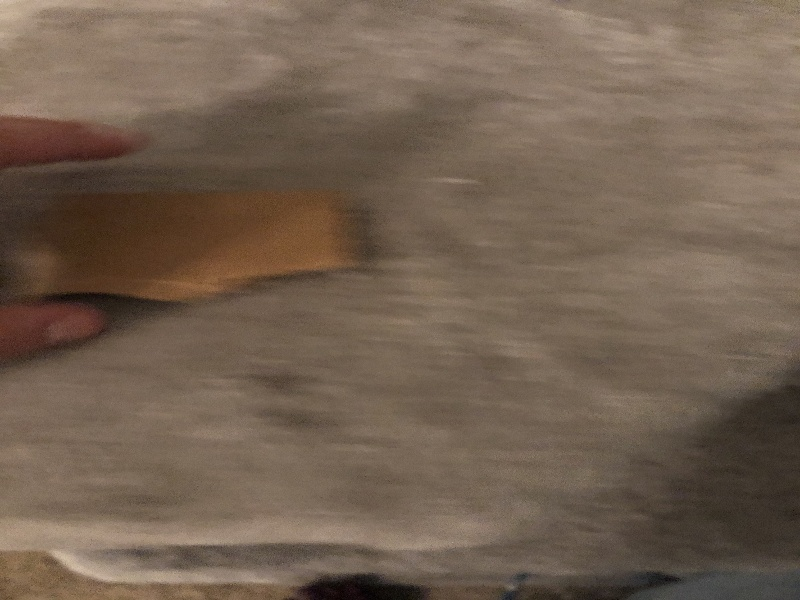cardboard: (1, 178, 366, 307)
